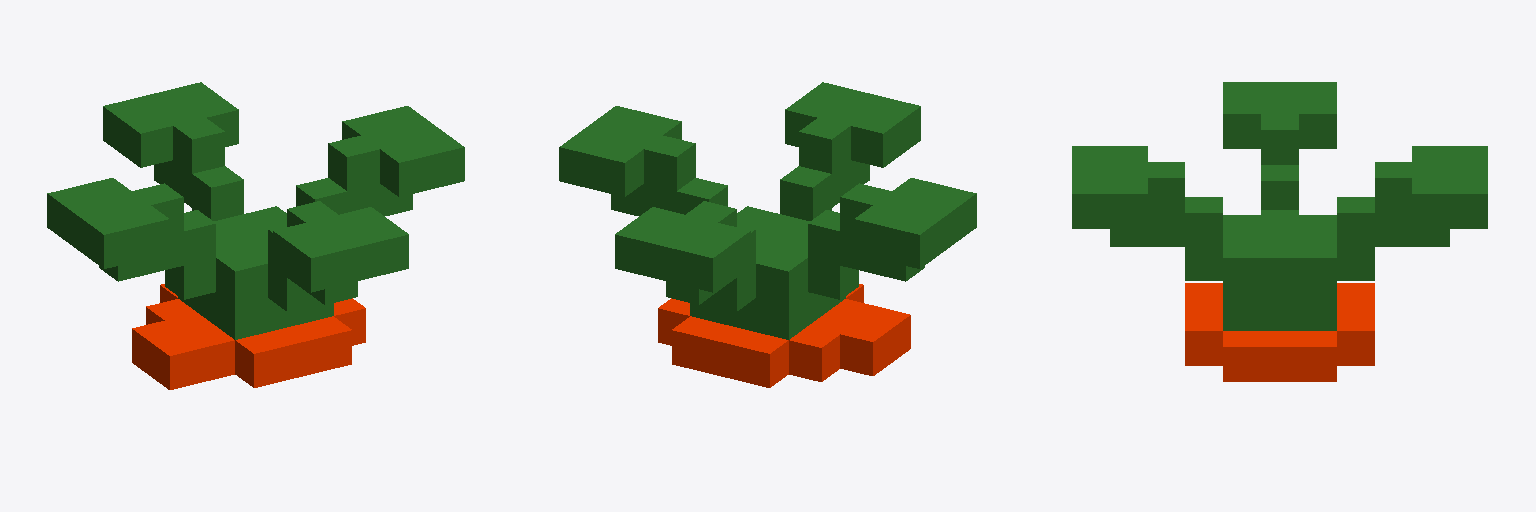
The picture shows the model from 3 angles: view 1: azimuth 30°, elevation 25°; view 2: azimuth 150°, elevation 25°; view 3: azimuth 270°, elevation 25°; orthographic projection.
Parts seen in each view (by area): view 1: object 1; view 2: object 1; view 3: object 1.
Boxes of the visible parts, <box> form: object 1: <box>47,82,464,389</box>; object 1: <box>559,82,976,387</box>; object 1: <box>1072,82,1487,381</box>.
Size of the model in its own units: 1.1 by 0.5 by 1.1.
1 materials, 1 textured.